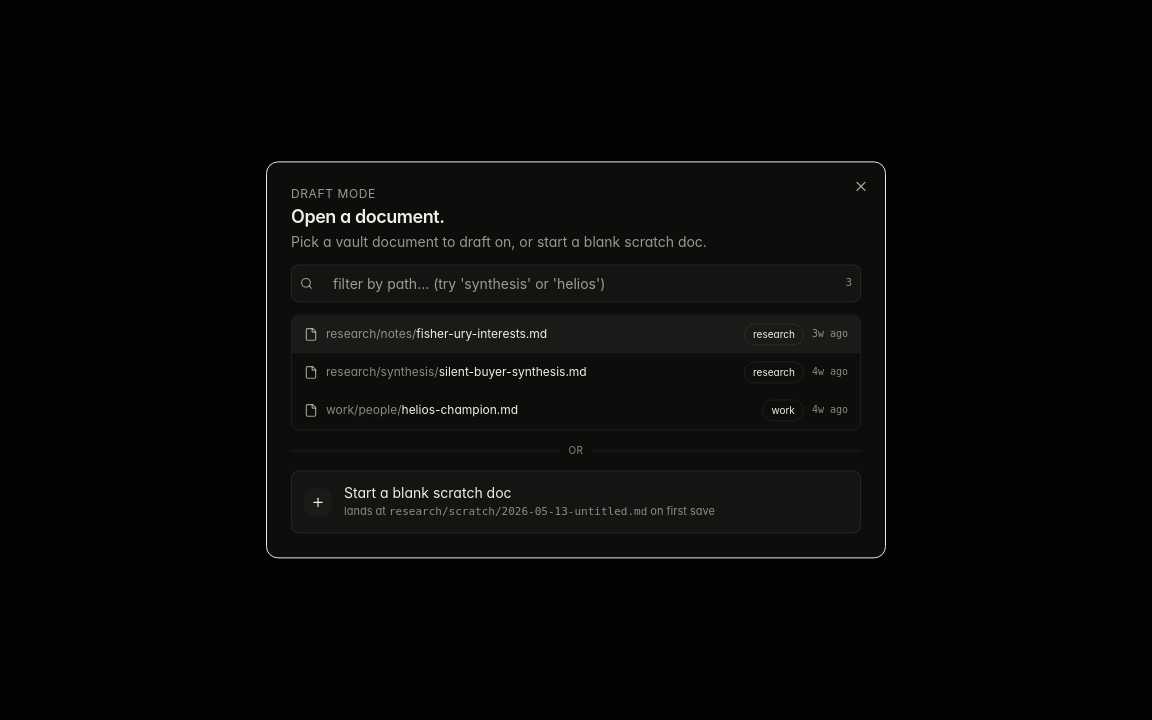
DocPickerDialog › search filter does not throw TypeError on rows without a domain field (regression: drop redundant clause)
Expected: the text "silent-buyer-synthesis.md" is shown, [439, 364, 587, 379]
Type "buy" into the field with placeholder "filter by path… (try 'synthesis' or 'helios')". click: (579, 283)
box: [321, 265, 837, 301]
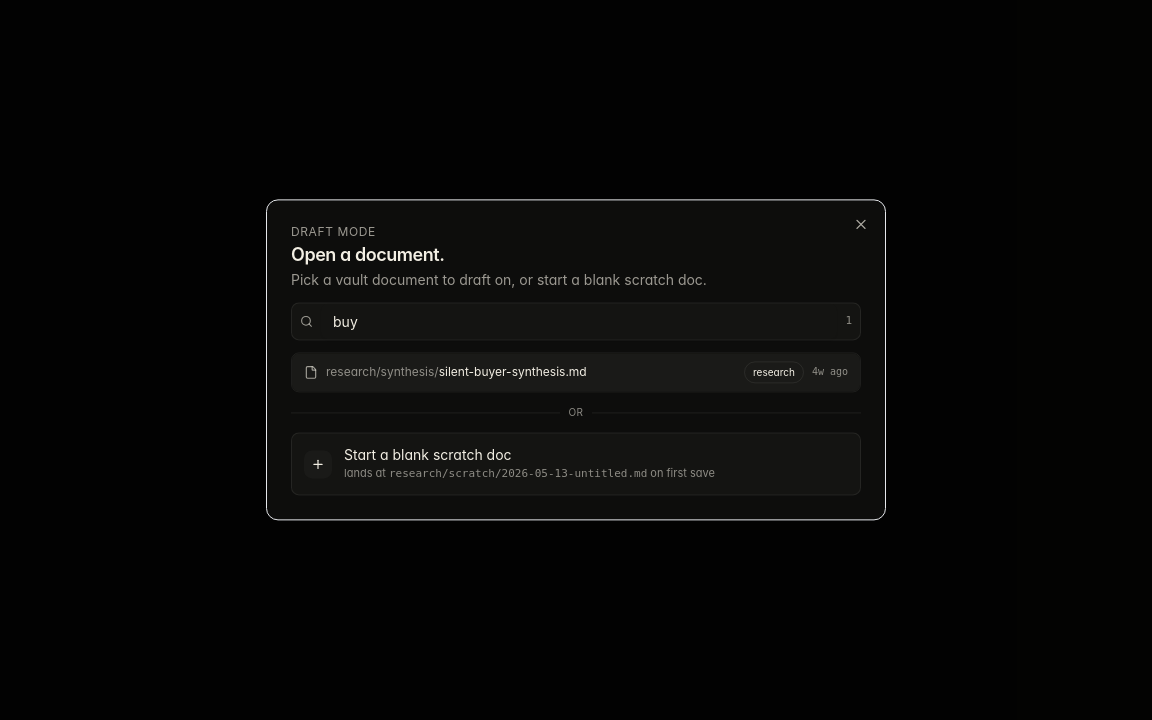
Expected: the text "silent-buyer-synthesis.md" is shown, [439, 364, 587, 379]
Result: the option "fisher-ury-interests.md" is gone
Result: the option "helios-champion.md" is gone
